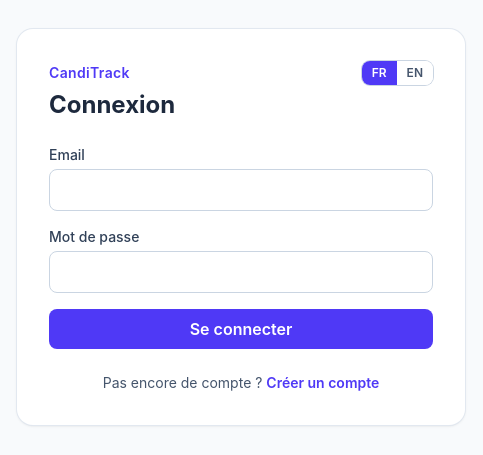
Test: Authentification › affiche une erreur avec de mauvais identifiants
This screenshot has width=483, height=455.
Type "soumaya@example.com" into the field with id "email" at (241, 190), box [49,169,433,211]
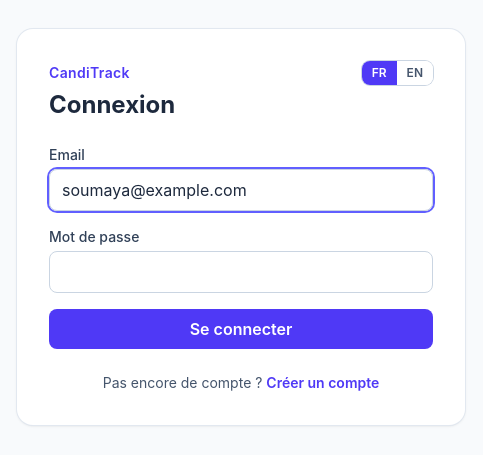
Type "mauvais-mot-de-passe" into the password field labelled "Mot de passe" at (241, 272), box [49,251,433,293]
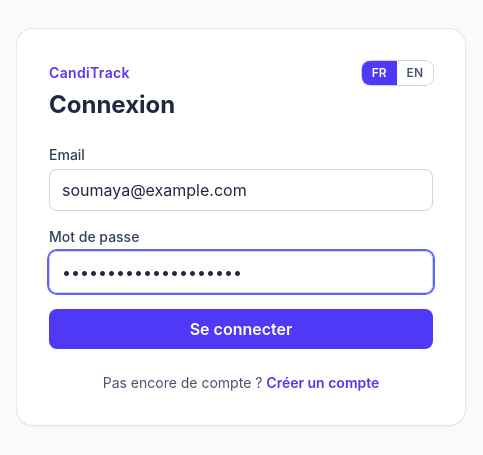
Click the button "Se connecter" at (241, 329), box [49,309,433,349]
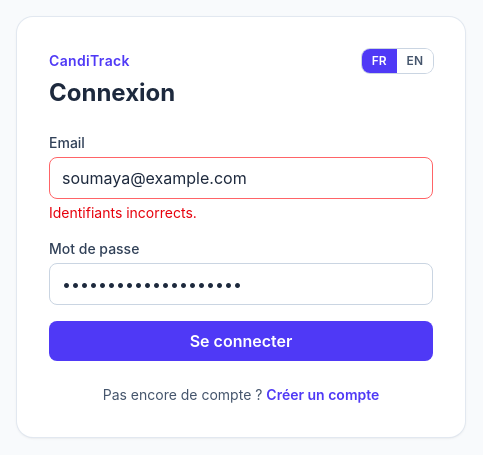
Expected: the text "Identifiants incorrects." is shown, [49,204,197,221]
